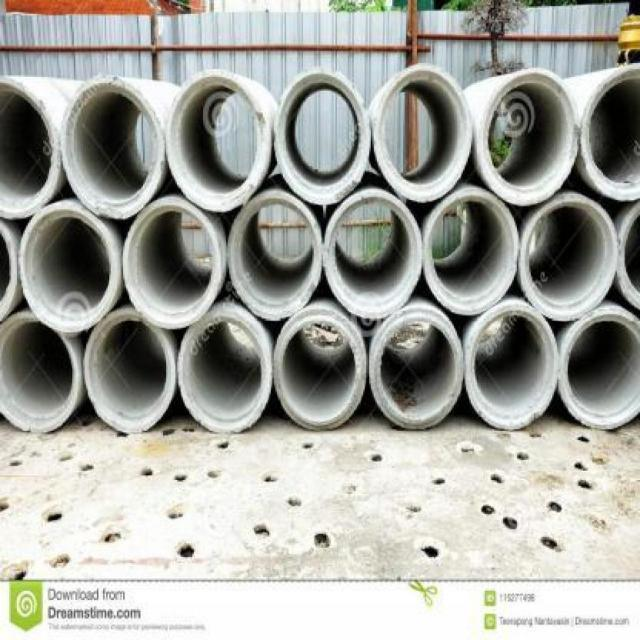pipe: (60, 75, 164, 219), (165, 68, 268, 213), (478, 68, 580, 206), (373, 63, 471, 203), (273, 67, 372, 204), (122, 196, 222, 330), (323, 189, 423, 320), (19, 202, 119, 333), (519, 193, 619, 321), (228, 191, 324, 320), (423, 190, 520, 316), (272, 307, 366, 431), (370, 308, 465, 430), (178, 310, 272, 433), (467, 304, 558, 430), (84, 307, 175, 433), (557, 308, 640, 430), (0, 312, 80, 434), (0, 74, 58, 220), (579, 62, 639, 202), (612, 199, 640, 315)
